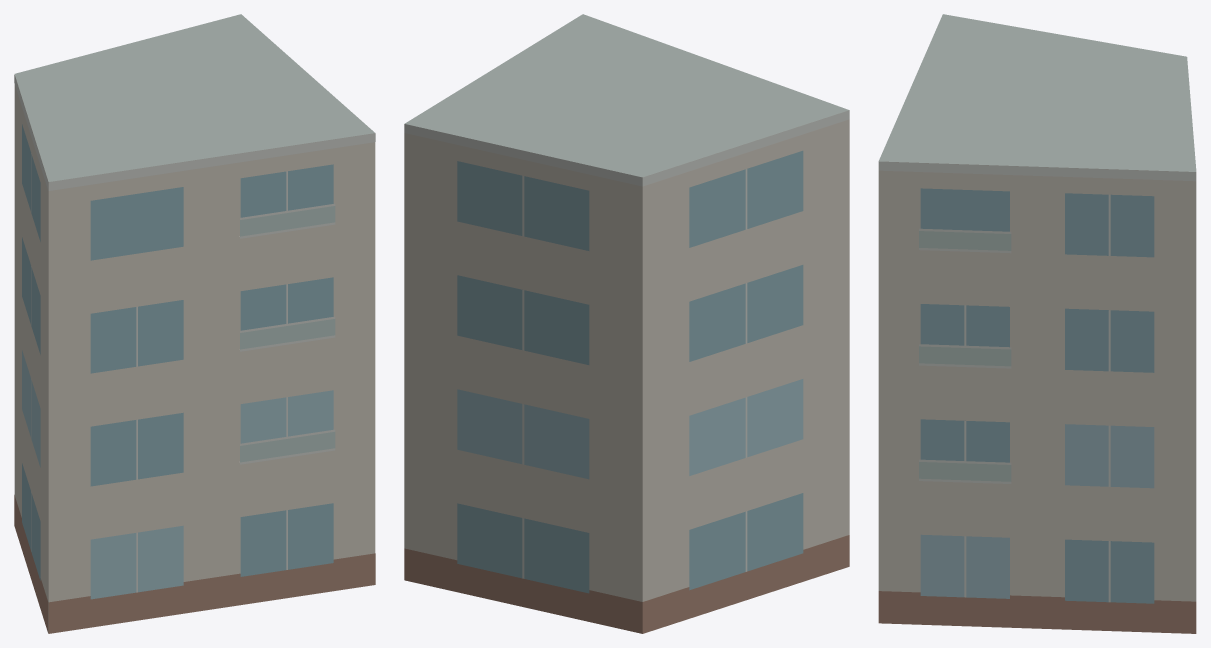
File: survey-upis-33018504.glb
3 renders of one model, left to right at view 1: azimuth 30°, elevation 25°; view 2: azimuth 150°, elevation 25°; view 3: azimuth 270°, elevation 25°, orthographic. The views are drawn at different scales.
Visible parts, largest first — view 1: survey-upis-33018504.tmp; view 2: survey-upis-33018504.tmp; view 3: survey-upis-33018504.tmp.
Part boxes in pixels (x1,y1,x2,y2): survey-upis-33018504.tmp: (14, 14, 375, 633); survey-upis-33018504.tmp: (404, 14, 849, 633); survey-upis-33018504.tmp: (878, 14, 1196, 633).
Size of the model in its own units: 8.96 by 12.2 by 7.62.
